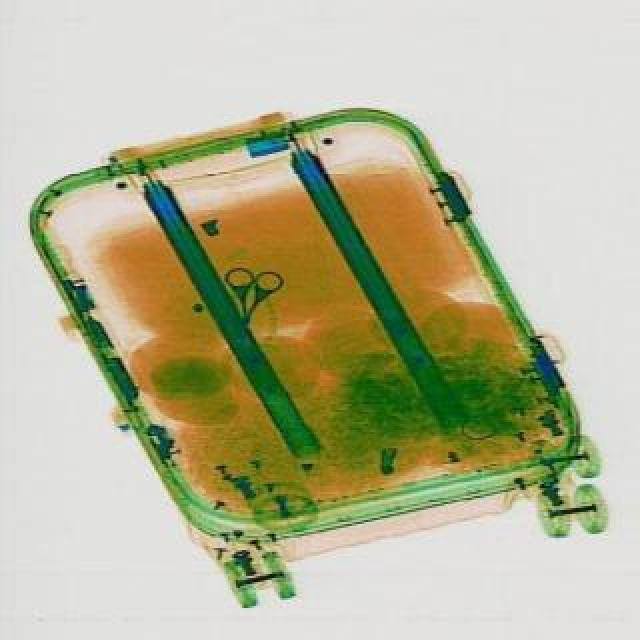pliers: (214, 266, 282, 330)
